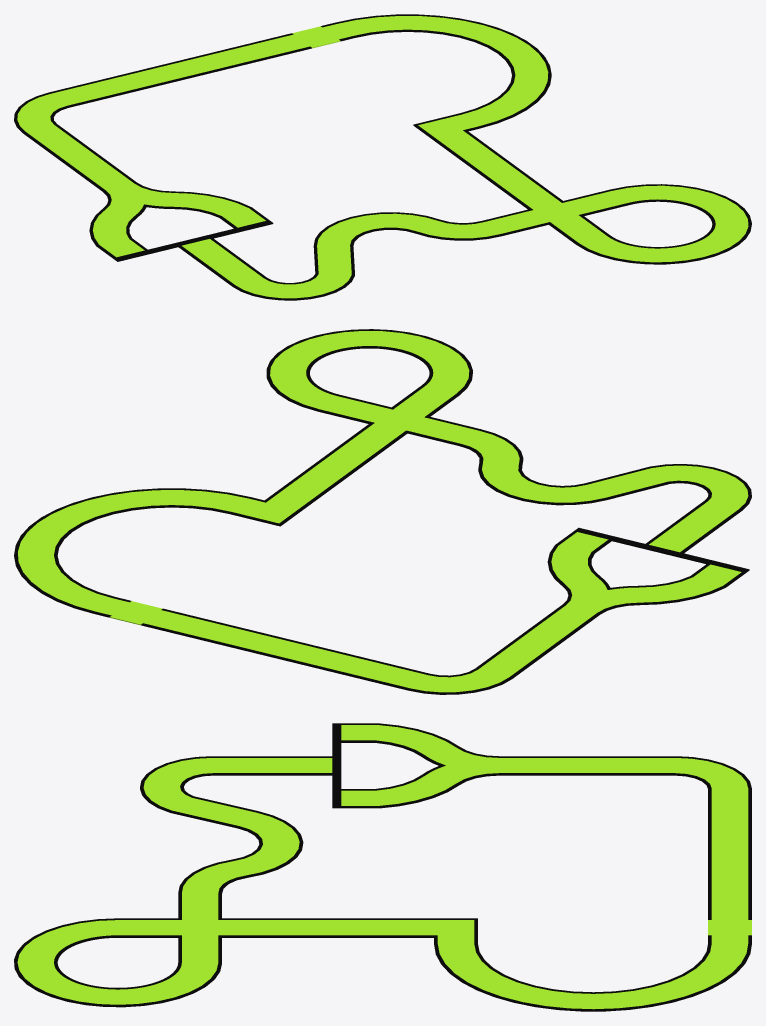
File: Track_2.dae
3 views of the same model, one above another, from view 1: azimuth 30°, elevation 25°; view 2: azimuth 150°, elevation 25°; view 3: azimuth 270°, elevation 25° (orthographic). The views are drawn at different scales.
Visible parts, largest first — view 1: Track; view 2: Track; view 3: Track.
Boxes of the visible parts, x1,y1,x2,y2 form: Track: [14, 14, 751, 300]; Track: [14, 329, 751, 694]; Track: [14, 723, 751, 1011].
Bounding box in the file's own units: 37.18 × 40.39 × 0.06.
